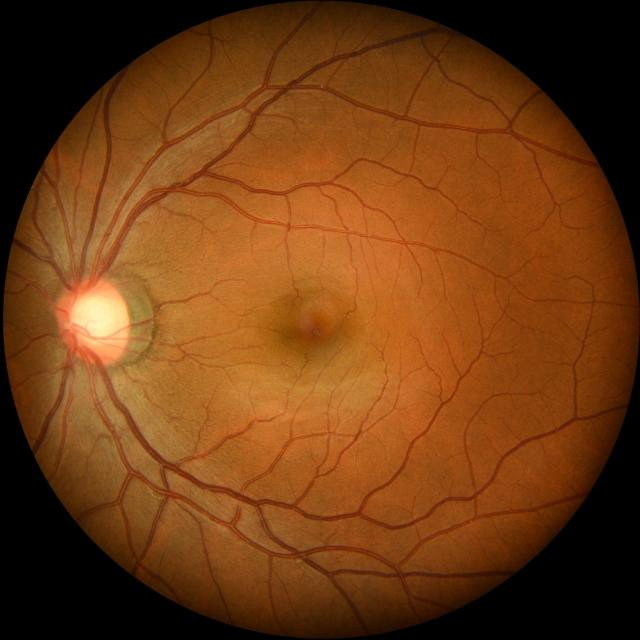OC: (68, 290, 123, 347)
OD: (56, 275, 130, 365)
